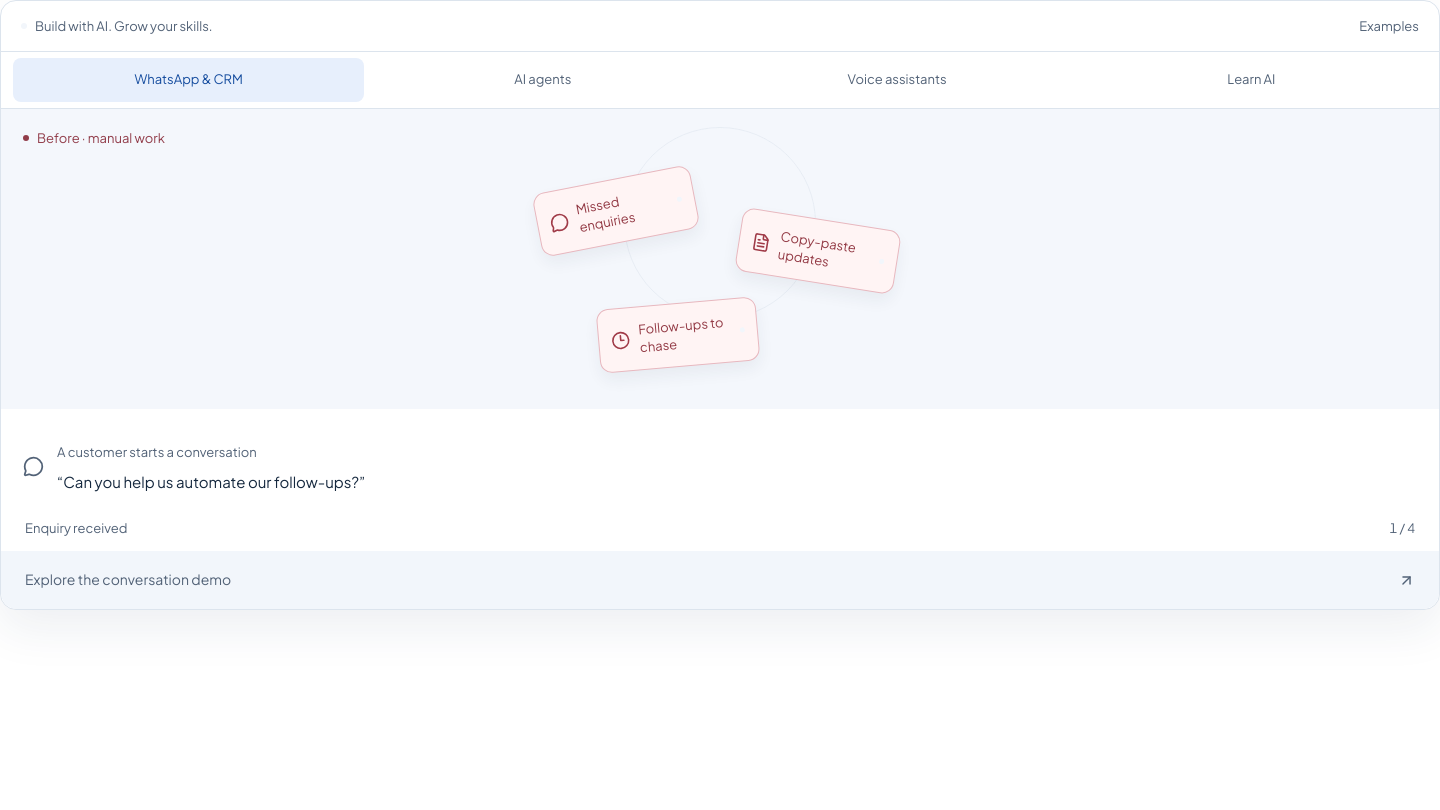
Test: homepage visitor journeys › lets visitors explore voice assistants and learning alongside automation
The image size is (1440, 810).
Click the tab "Voice assistants": coordinates (897, 80) x1=722 y1=58 x2=1073 y2=102
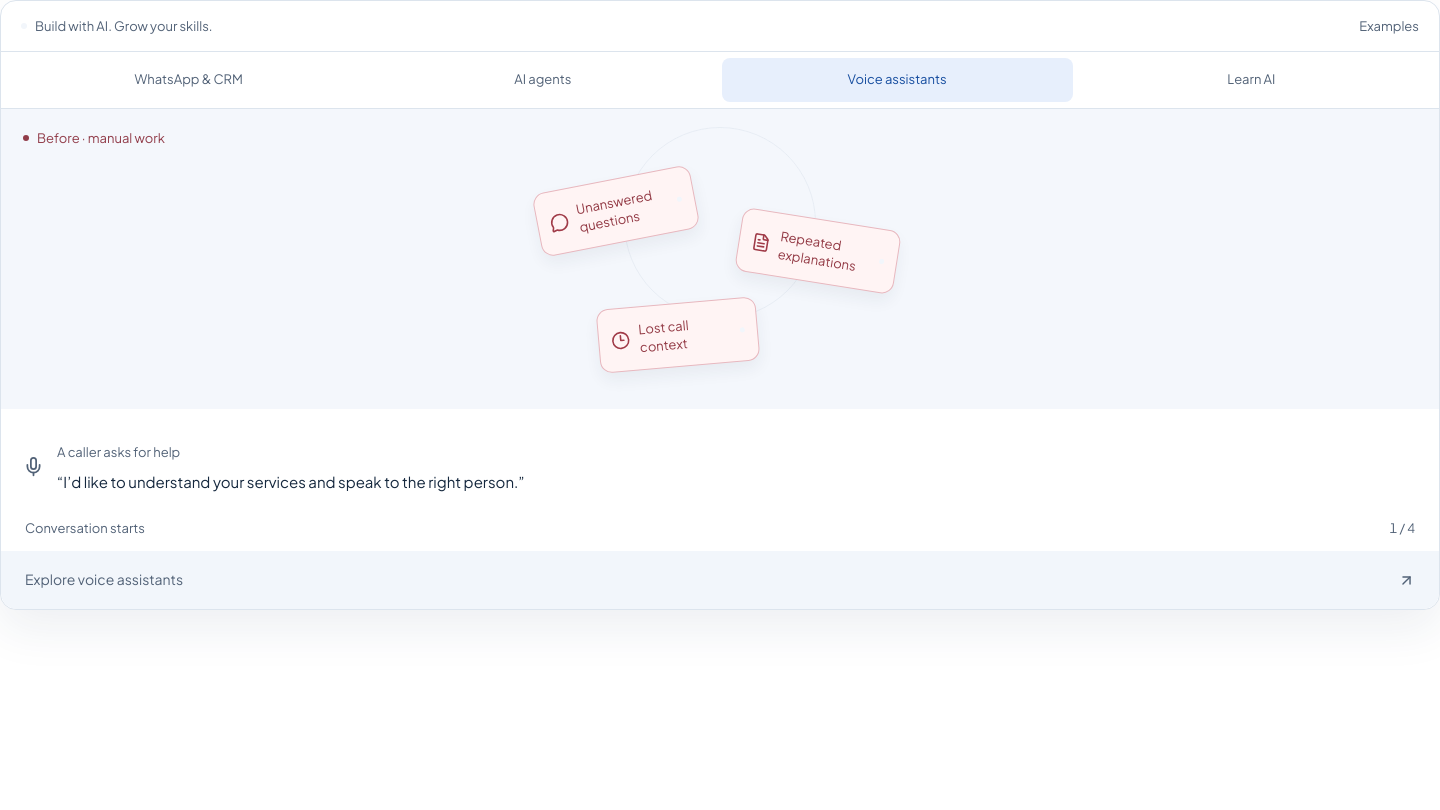
Now the text "A caller asks for help" is shown, box x1=57 y1=444 x2=180 y2=460
Click the tab "Learn AI": coordinates (1251, 80) x1=1076 y1=58 x2=1427 y2=102
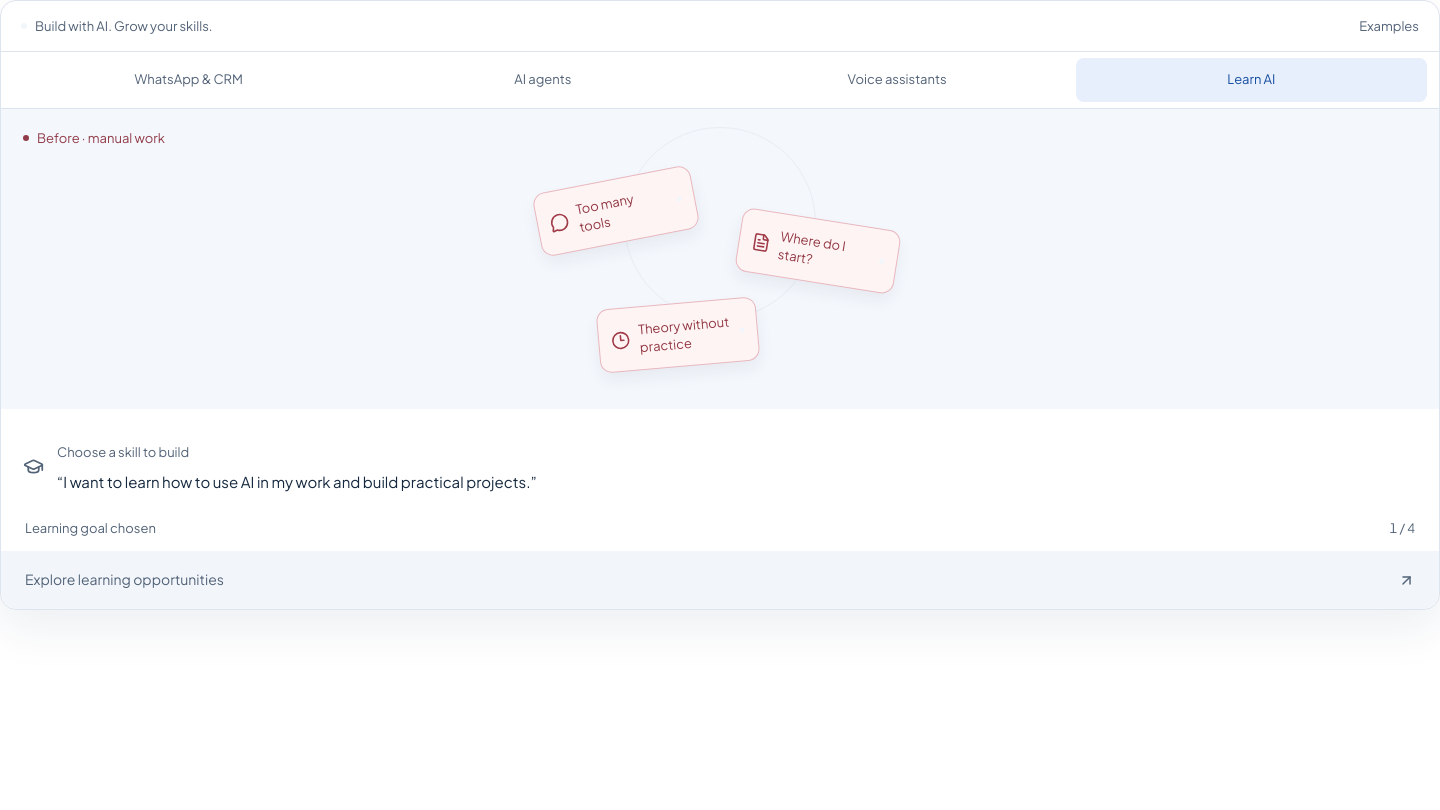
Now the link "Explore learning opportunities" has attribute href="/academy", box x1=1 y1=551 x2=1439 y2=609
